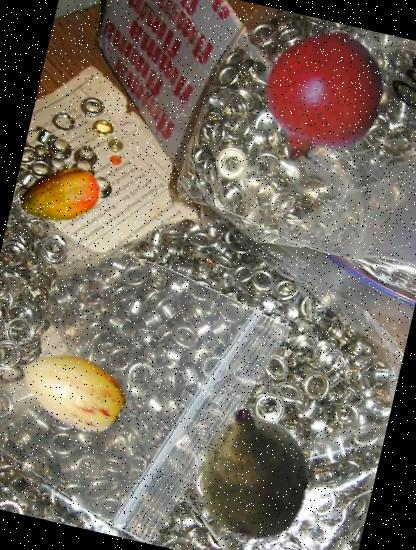Beetroot: (173, 391, 336, 550)
Papaya: (10, 146, 108, 244)
Pepino: (8, 324, 138, 454)
Pomegranate: (237, 12, 407, 182)
